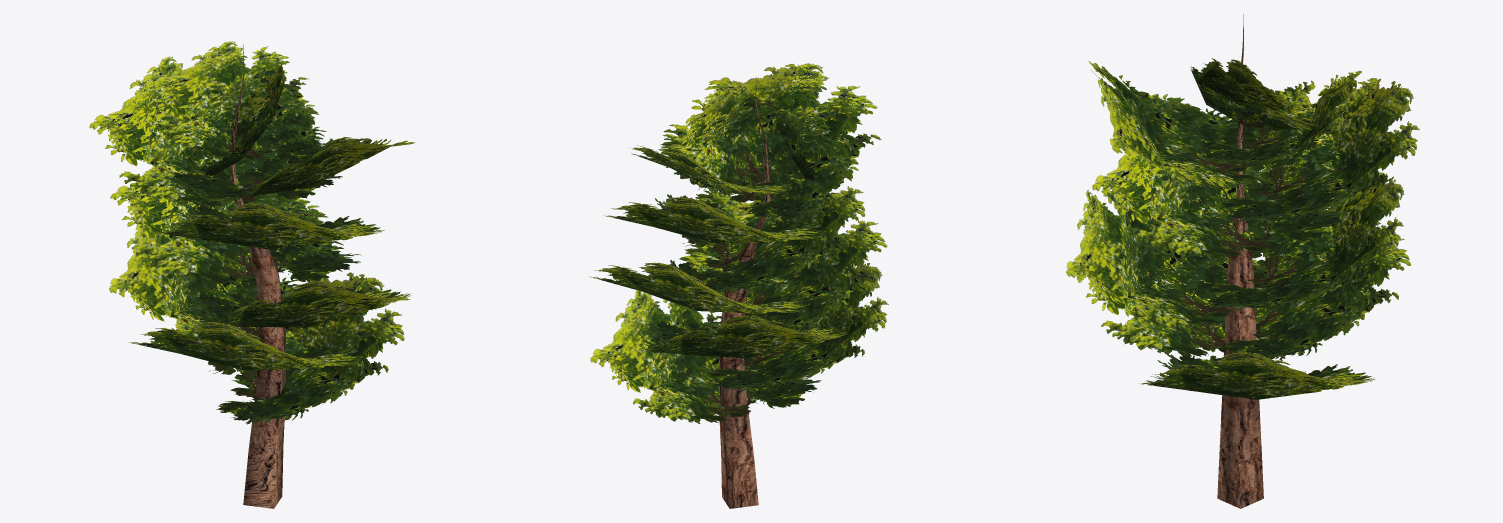
The model's file is tree222.glb.
3 renders of one model, left to right at view 1: azimuth 30°, elevation 25°; view 2: azimuth 150°, elevation 25°; view 3: azimuth 270°, elevation 25°, orthographic. The views are drawn at different scales.
Visible parts, largest first — view 1: foliage, tree-col; view 2: foliage, tree-col; view 3: foliage, tree-col.
Boxes of the visible parts, x1,y1,x2,y2 form: foliage: (89, 41, 414, 424); tree-col: (230, 44, 285, 508); foliage: (590, 63, 888, 423); tree-col: (718, 77, 769, 508); foliage: (1066, 58, 1419, 399); tree-col: (1217, 14, 1263, 508).
Bounding box in the file's own units: 9.34 × 10.99 × 10.52.
Materials: 2 (2 with a texture image).
